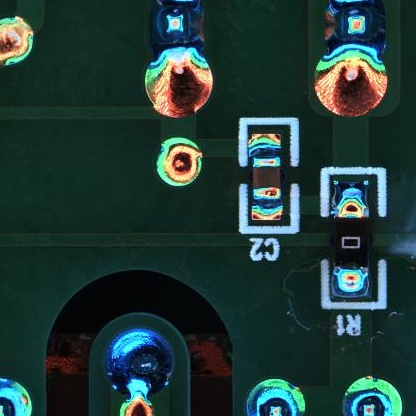spot: (103, 325, 174, 396), (320, 3, 387, 46), (339, 376, 402, 416), (152, 1, 205, 48), (247, 376, 305, 416), (1, 374, 33, 416)
